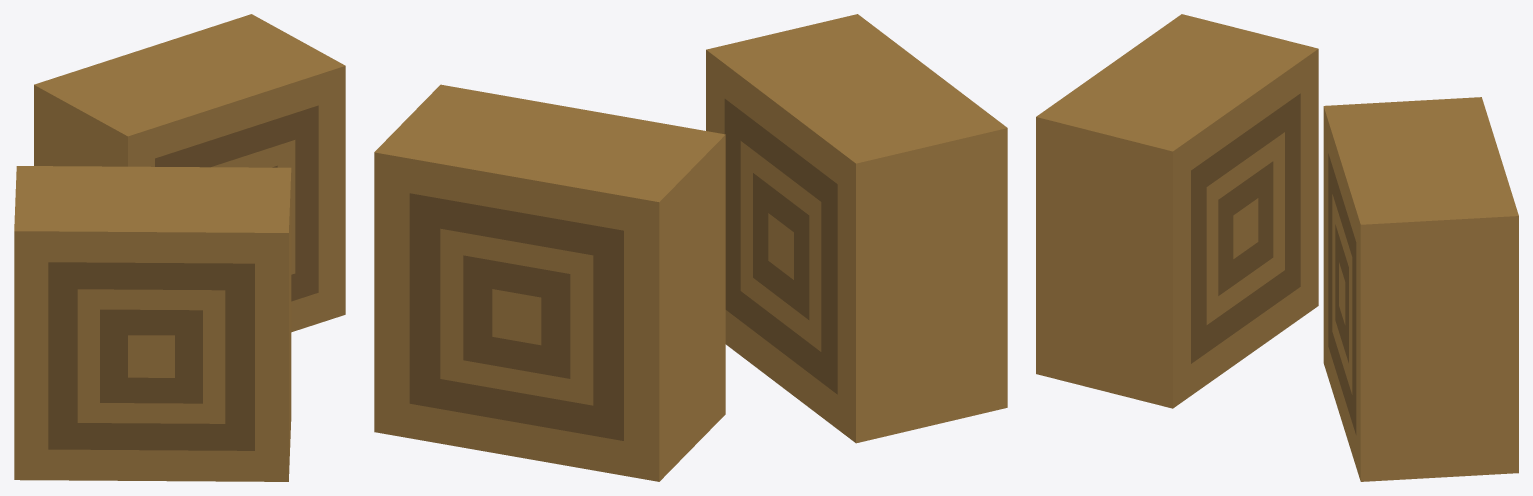
The model's file is CinamolRoll.glb.
3 views of the same model, side by side, from view 1: azimuth 30°, elevation 25°; view 2: azimuth 150°, elevation 25°; view 3: azimuth 270°, elevation 25° (orthographic). The views are drawn at different scales.
Visible parts, largest first — view 1: SI_Food_Bakery_CinnamonRoll; view 2: SI_Food_Bakery_CinnamonRoll; view 3: SI_Food_Bakery_CinnamonRoll.
Part boxes in pixels (x1,y1,x2,y2): SI_Food_Bakery_CinnamonRoll: [14, 14, 345, 481]; SI_Food_Bakery_CinnamonRoll: [374, 14, 1007, 481]; SI_Food_Bakery_CinnamonRoll: [1036, 14, 1518, 481].
Bounding box in the file's own units: 0.00418 × 0.00238 × 0.00405.
1 material, 1 textured.
